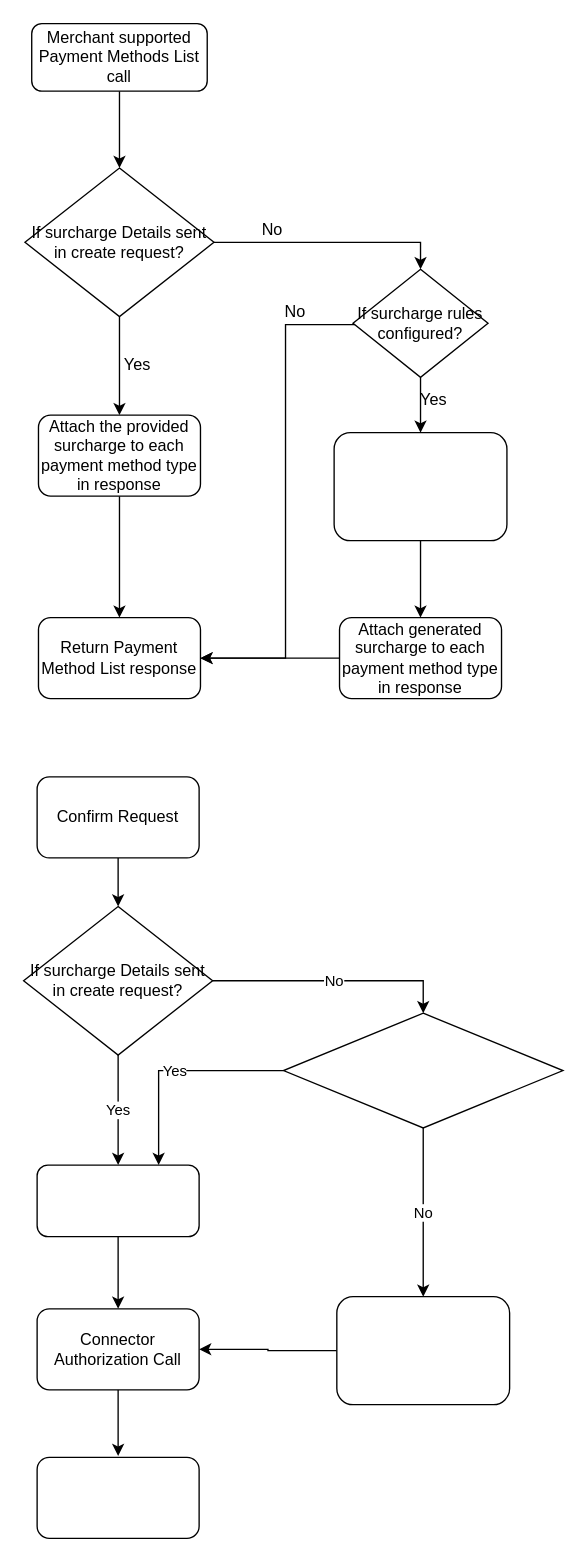
This 587x1562 diagram has some shape labels left out. Each missing label, with the box of its shape:
Authorize amount is original amount: (335, 1295, 510, 1405)
Authorize amount is original amount + surcharge amount: (36, 1164, 199, 1237)
Calculate Surcharge for each payment method type as per the configured rules: (333, 431, 507, 541)
If surcharge was calculated through the surcharge rules ?: (282, 1012, 563, 1128)
Payment Authorize response: (36, 1456, 199, 1538)
